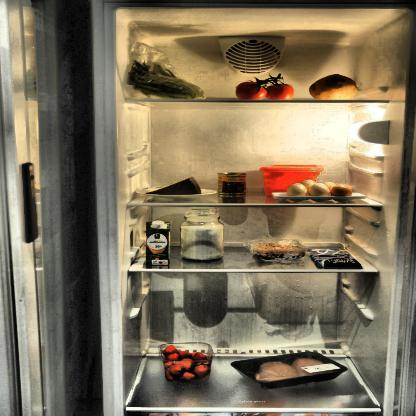butter: (258, 166, 320, 198)
cheese: (144, 176, 206, 196)
chicken: (241, 352, 346, 385)
chocolate: (308, 247, 366, 270)
corn: (215, 174, 246, 198)
eggs: (284, 179, 355, 200)
green_beans: (127, 58, 207, 100)
heavy_cream: (144, 221, 172, 268)
shrimp: (253, 241, 306, 260)
strawberries: (162, 341, 212, 383)
sweet_potato: (307, 74, 366, 102)
tomato: (235, 78, 294, 104)
